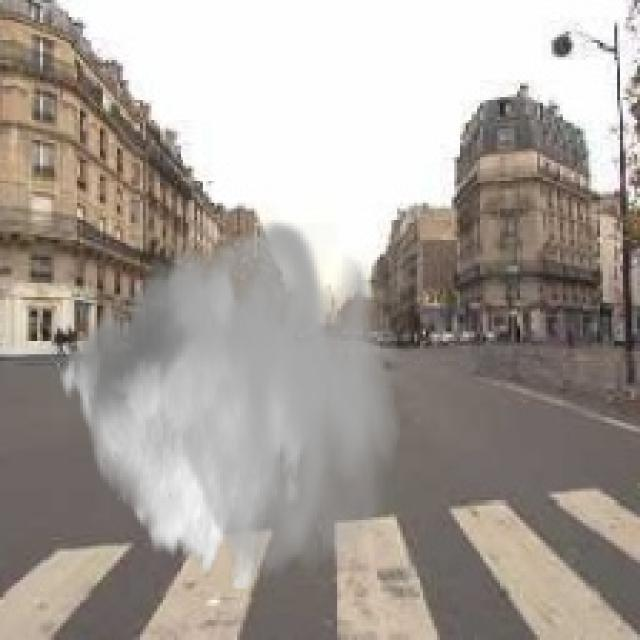Smoke: (57, 214, 400, 589)
